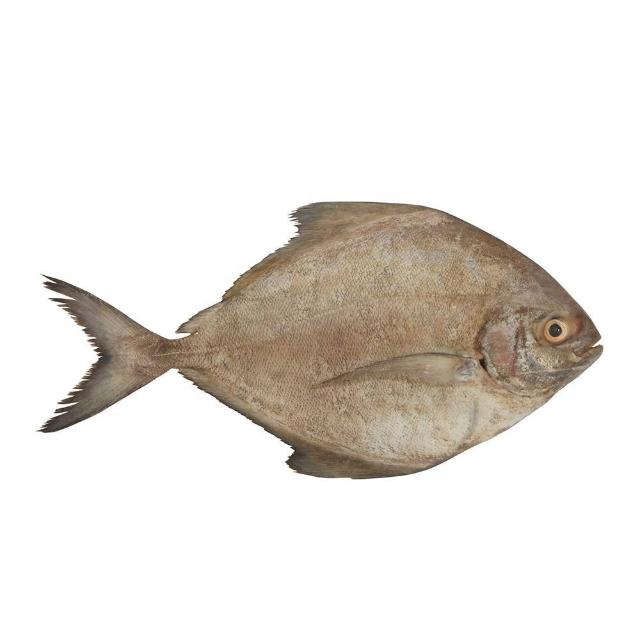Mulut: (556, 314, 620, 386)
Sirip Anal: (178, 358, 298, 438)
Sirip Dada: (288, 342, 492, 408)
Sirip Ekor: (26, 258, 172, 450)
Sirip Perut: (271, 439, 429, 507)
Sirip Punggung: (180, 183, 430, 333)
